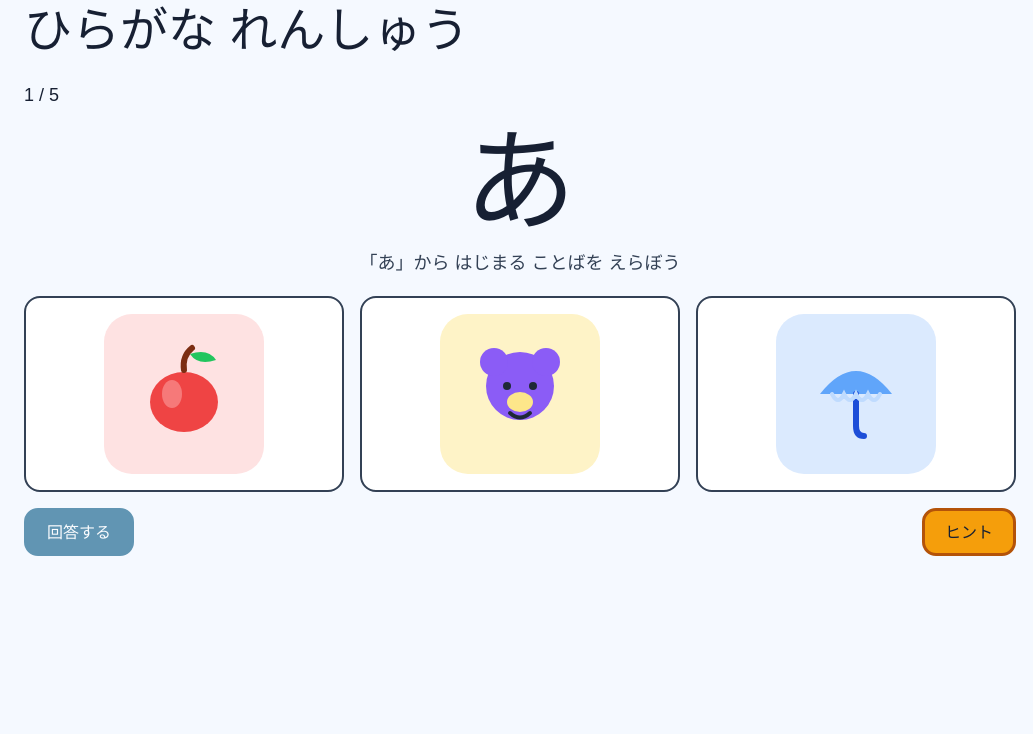
Test: QuizPage › locks choices and shows feedback after one answer
Click the button named "りんご" at {"x": 184, "y": 394}, box [24,296,344,492]
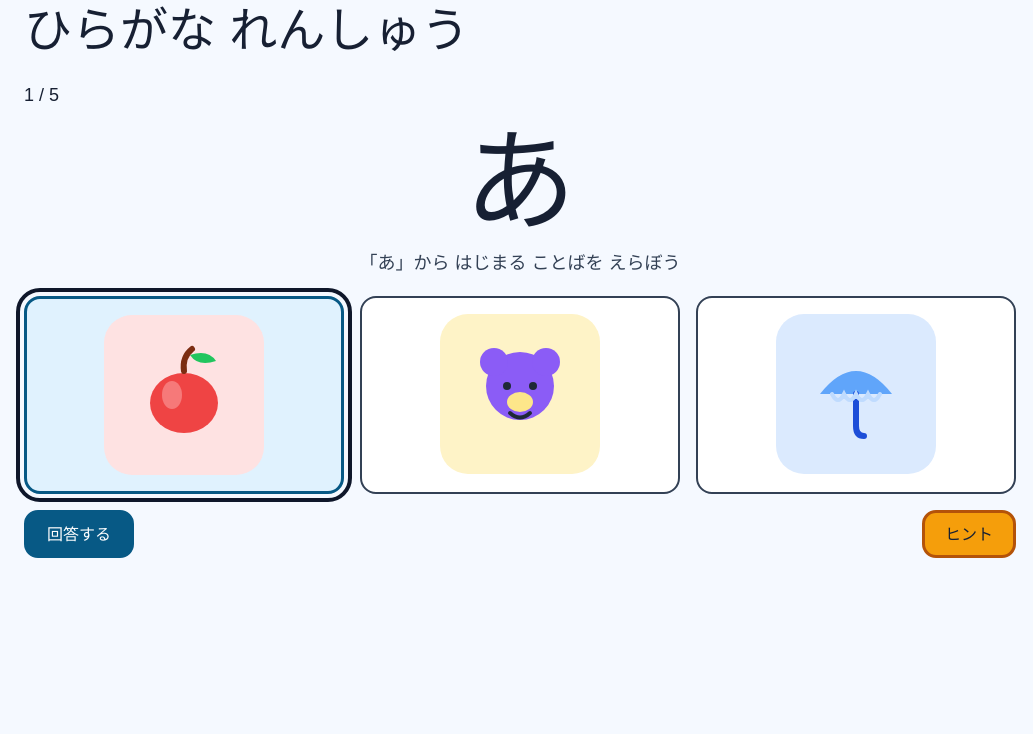
Expected: the text "正解！" is not shown
Now the button "回答する" is enabled, box [24,510,134,558]
Click the button named "あり" at {"x": 520, "y": 395}, box [360,296,680,494]
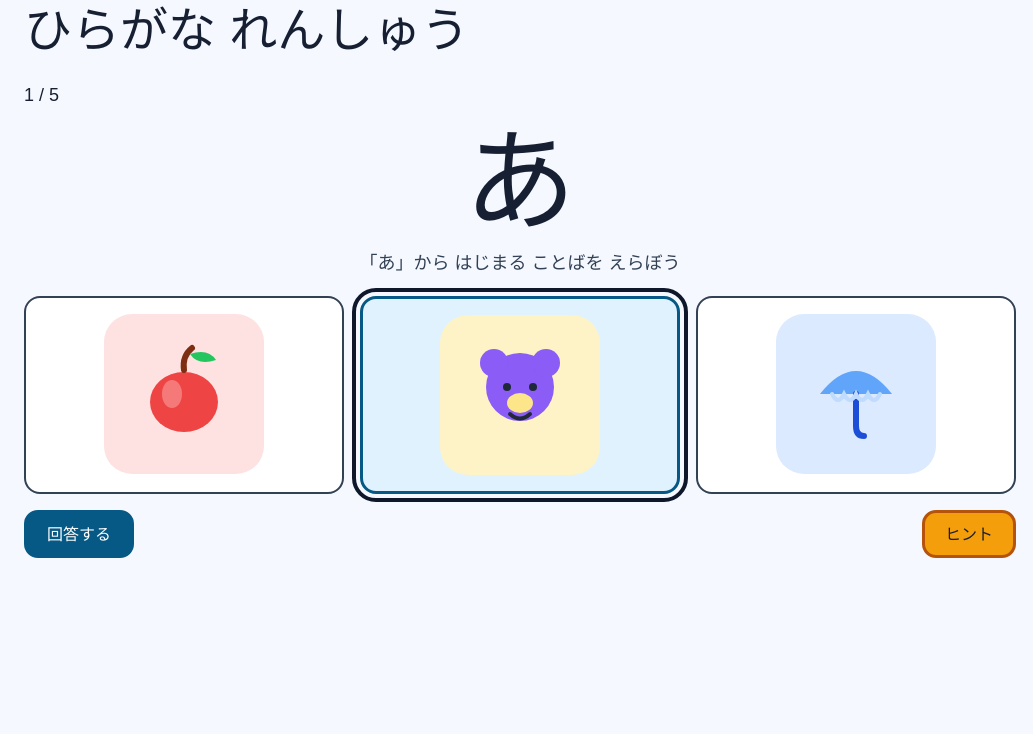
Now the button named "りんご" is not pressed
Now the button named "あり" is pressed, box [360,296,680,494]
Click the button named "りんご" at {"x": 184, "y": 395}, box [24,296,344,494]
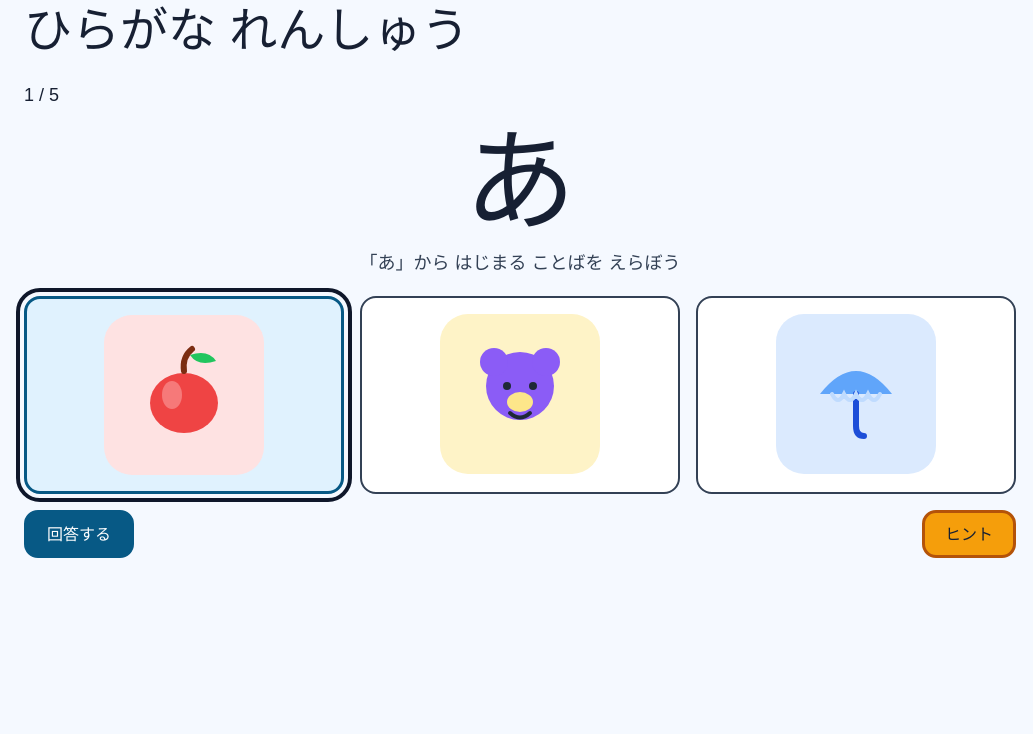
Click the button "回答する" at {"x": 79, "y": 534}, box [24,510,134,558]
(page scrolled)
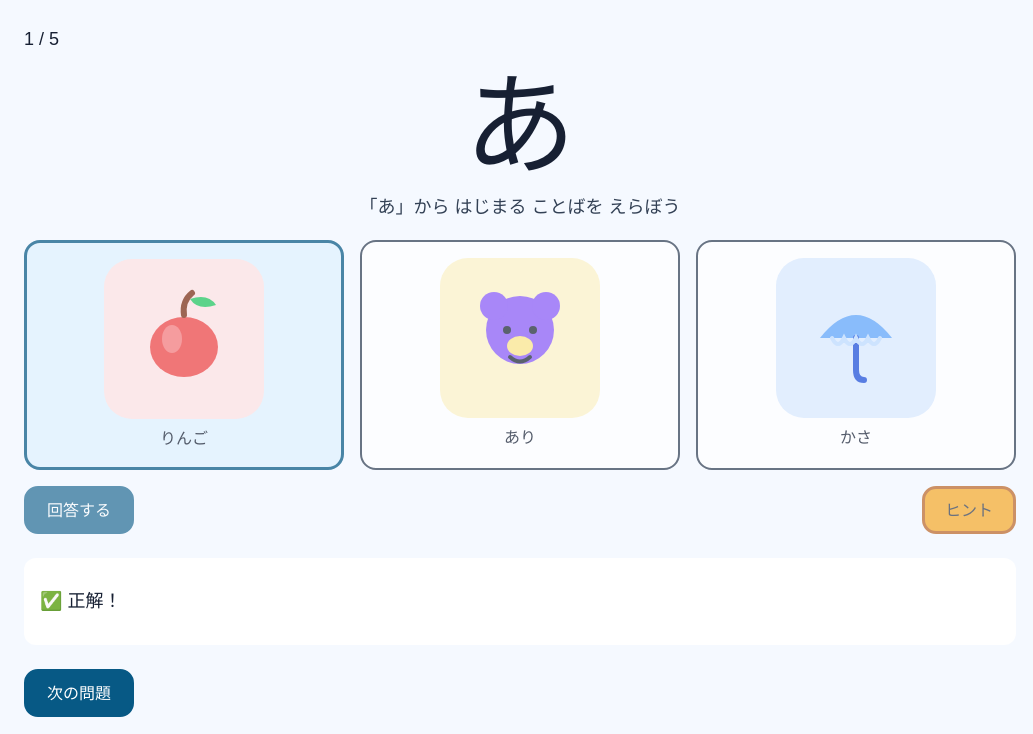
Now the text "正解！" is shown, box [68,591,122,611]
Now the button "りんご" is disabled, box [24,240,344,470]
Now the button "次の問題" is shown, box [24,669,134,717]
